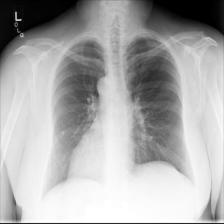normal: (43, 34, 196, 194)
